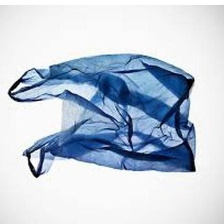plastic_bag: (3, 50, 203, 180)
